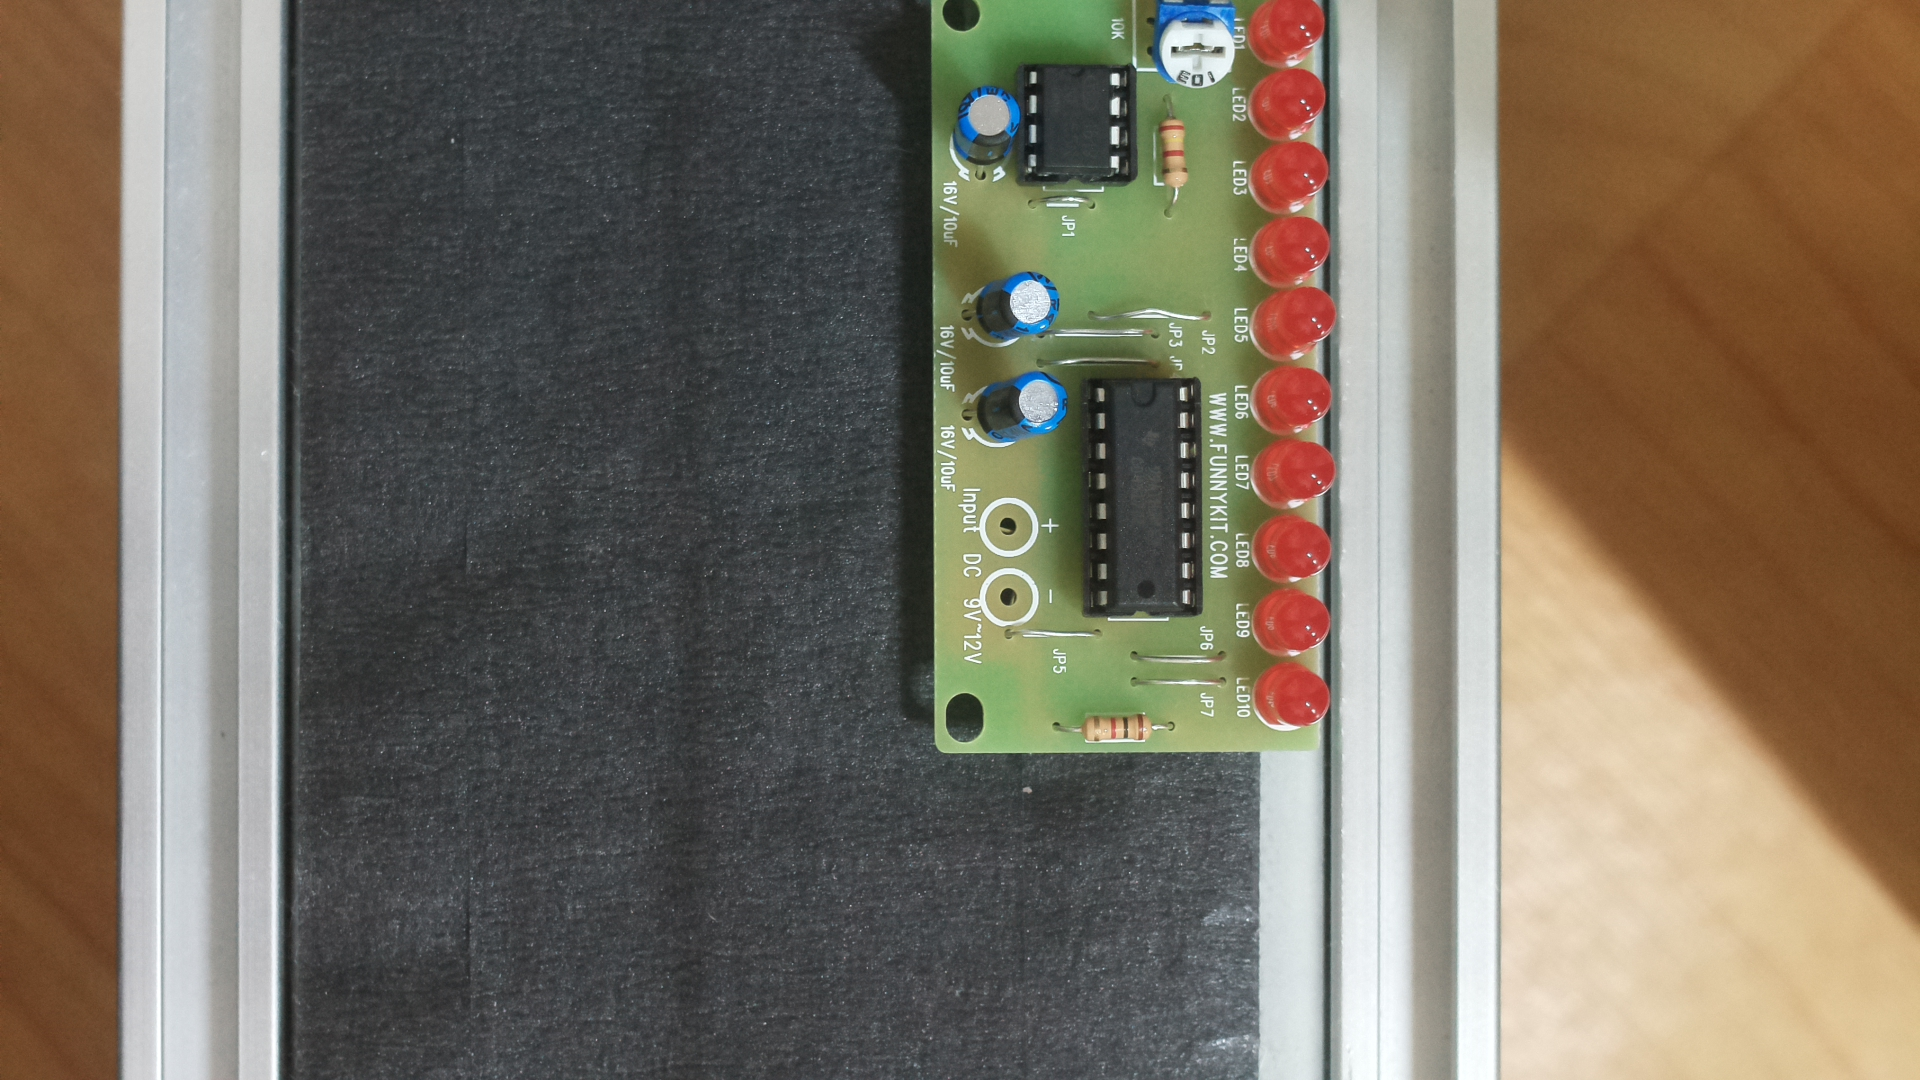B_Normal: (918, 3, 1338, 769)
